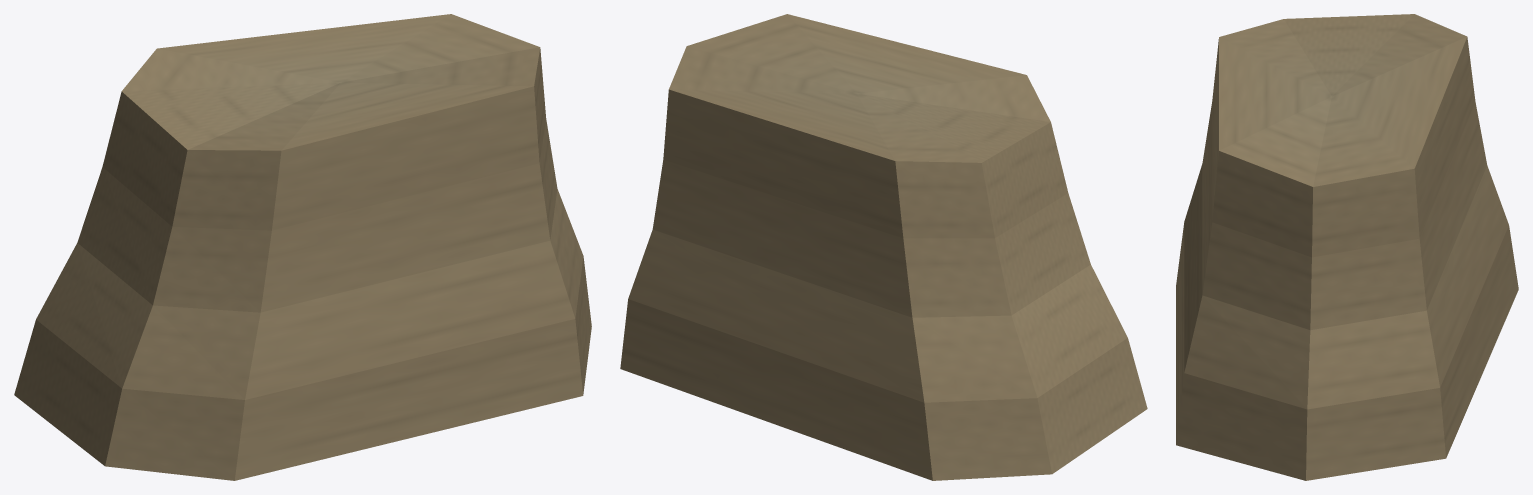
Rendered from cliff-sandstone-lod1.glb.
The picture shows the model from 3 angles, left to right: view 1: azimuth 30°, elevation 25°; view 2: azimuth 150°, elevation 25°; view 3: azimuth 270°, elevation 25°; orthographic projection. The views are drawn at different scales.
Bounding box in the file's own units: 0.525 × 0.2968 × 0.3251.
1 material, 1 textured.
